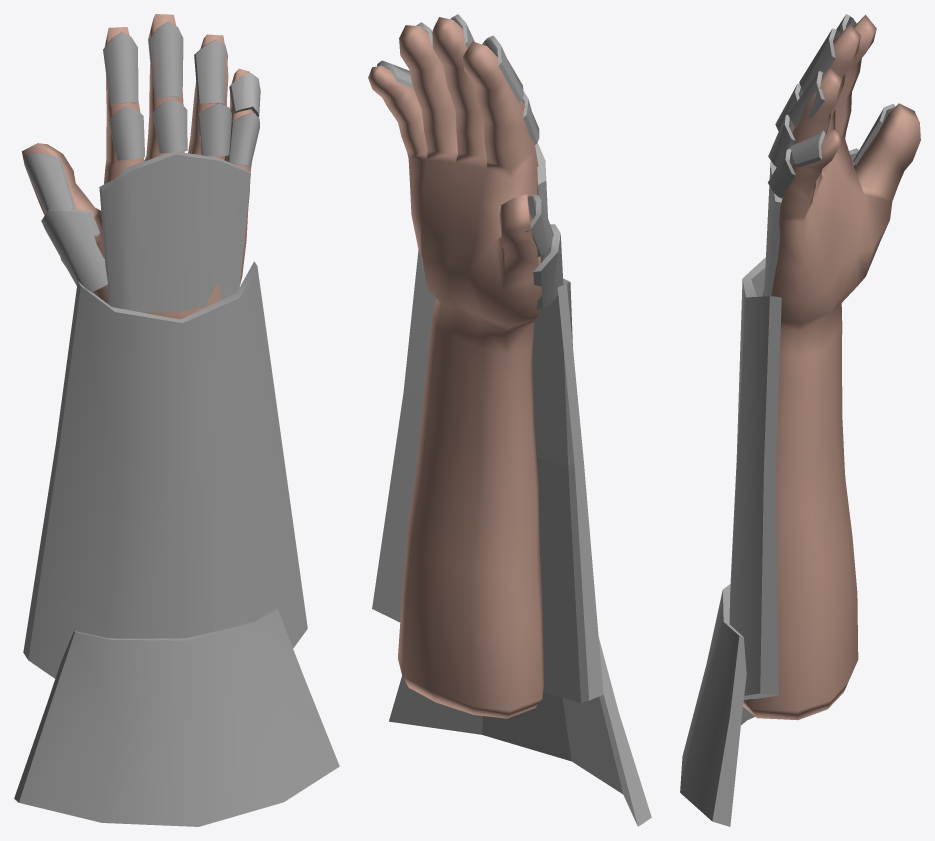
The model's file is Gant.fbx.
3 views of the same model, side by side, from view 1: azimuth 30°, elevation 25°; view 2: azimuth 150°, elevation 25°; view 3: azimuth 270°, elevation 25° (orthographic). The views are drawn at different scales.
Visible parts, largest first — view 1: gant; view 2: gant; view 3: gant.
Boxes of the visible parts, bbox=[...] form: gant: bbox=[14, 14, 339, 826]; gant: bbox=[368, 14, 651, 826]; gant: bbox=[680, 14, 920, 826].
Bounding box in the file's own units: 16.92 × 42.73 × 12.36.
